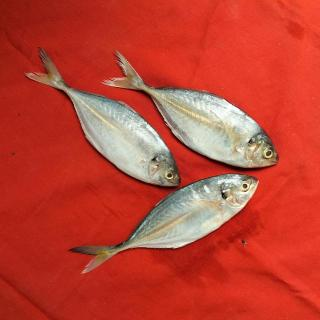Ikan: (21, 47, 285, 282)
